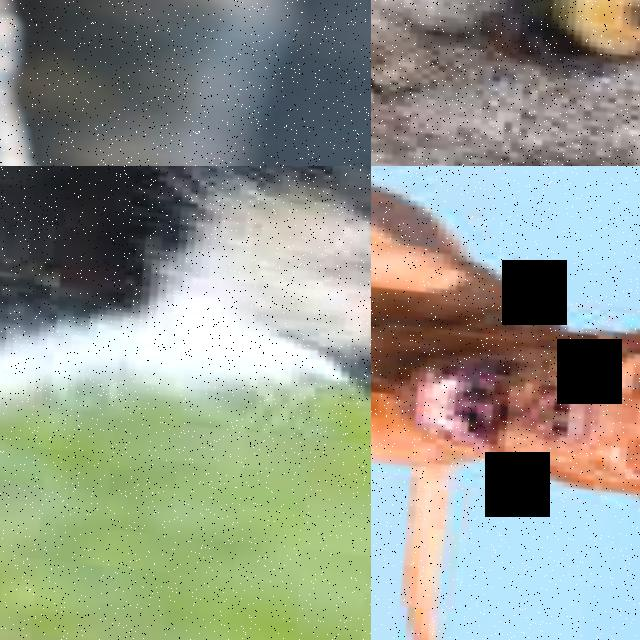dog: (0, 166, 371, 554), (371, 166, 640, 640)
wolf: (371, 0, 640, 166), (0, 0, 371, 93)
